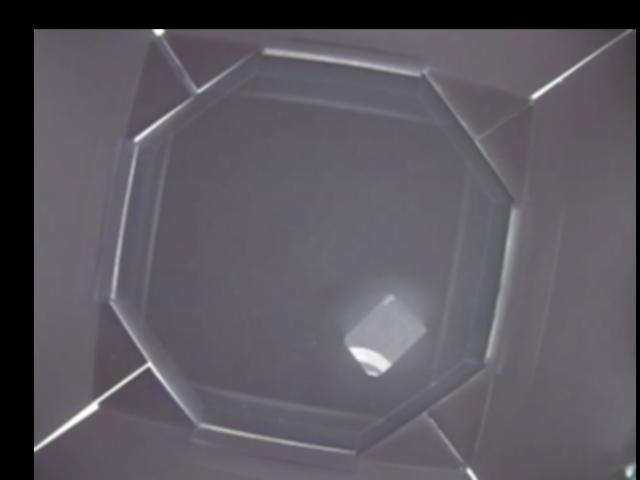China: (343, 295, 427, 377)
